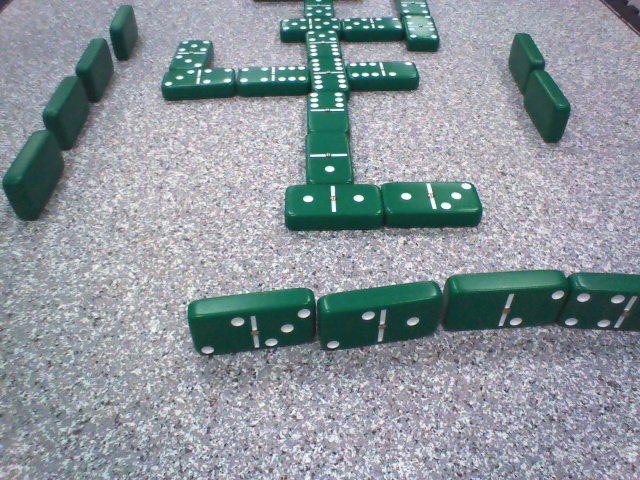B: (281, 175, 385, 233), (376, 175, 486, 225), (296, 127, 358, 187), (304, 87, 355, 143), (162, 63, 237, 100), (346, 57, 420, 90), (235, 65, 312, 91), (306, 55, 349, 94), (165, 38, 211, 74), (274, 13, 340, 38), (401, 9, 441, 48), (302, 25, 346, 60), (340, 14, 404, 38), (295, 1, 337, 21), (393, 1, 436, 18)
C: (3, 134, 65, 220), (38, 76, 98, 140), (75, 37, 117, 99), (106, 2, 144, 52)
D: (516, 66, 580, 152), (496, 29, 552, 94)
E: (181, 282, 321, 357), (439, 269, 565, 334), (319, 287, 443, 352), (562, 260, 640, 335)
